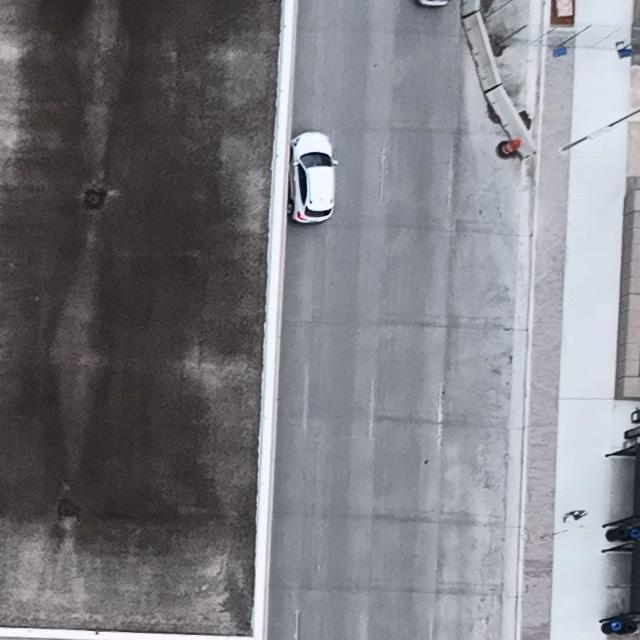car: (287, 131, 339, 226)
